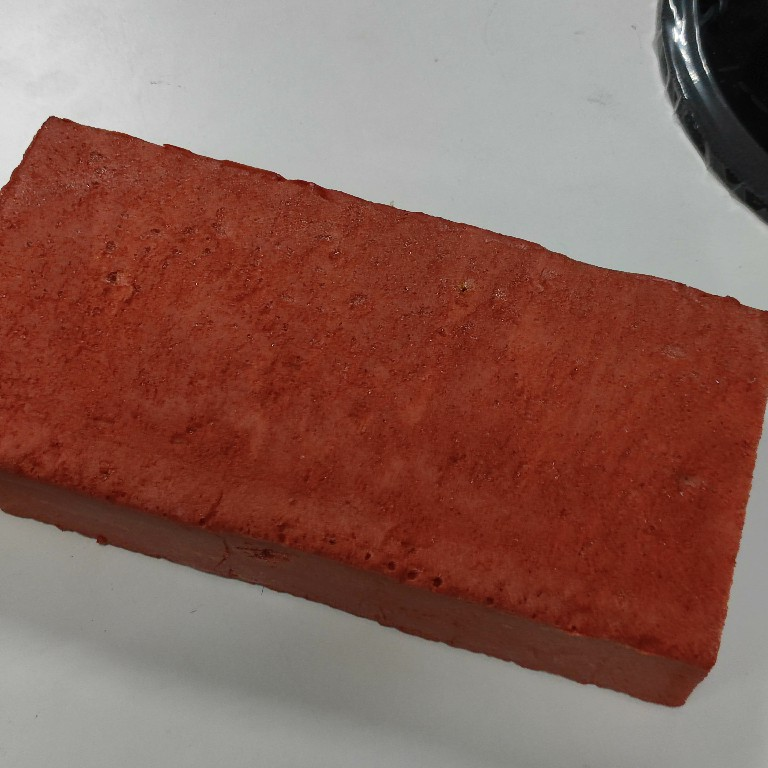brick: (1, 108, 768, 714)
